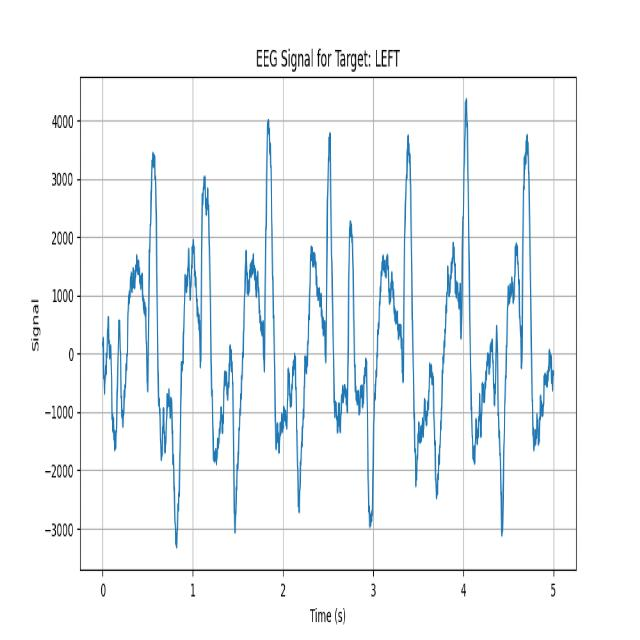LEFT: (312, 124, 382, 551), (382, 124, 452, 547), (451, 84, 513, 548), (128, 125, 192, 548), (191, 120, 253, 546), (251, 122, 313, 548), (511, 82, 553, 547)
